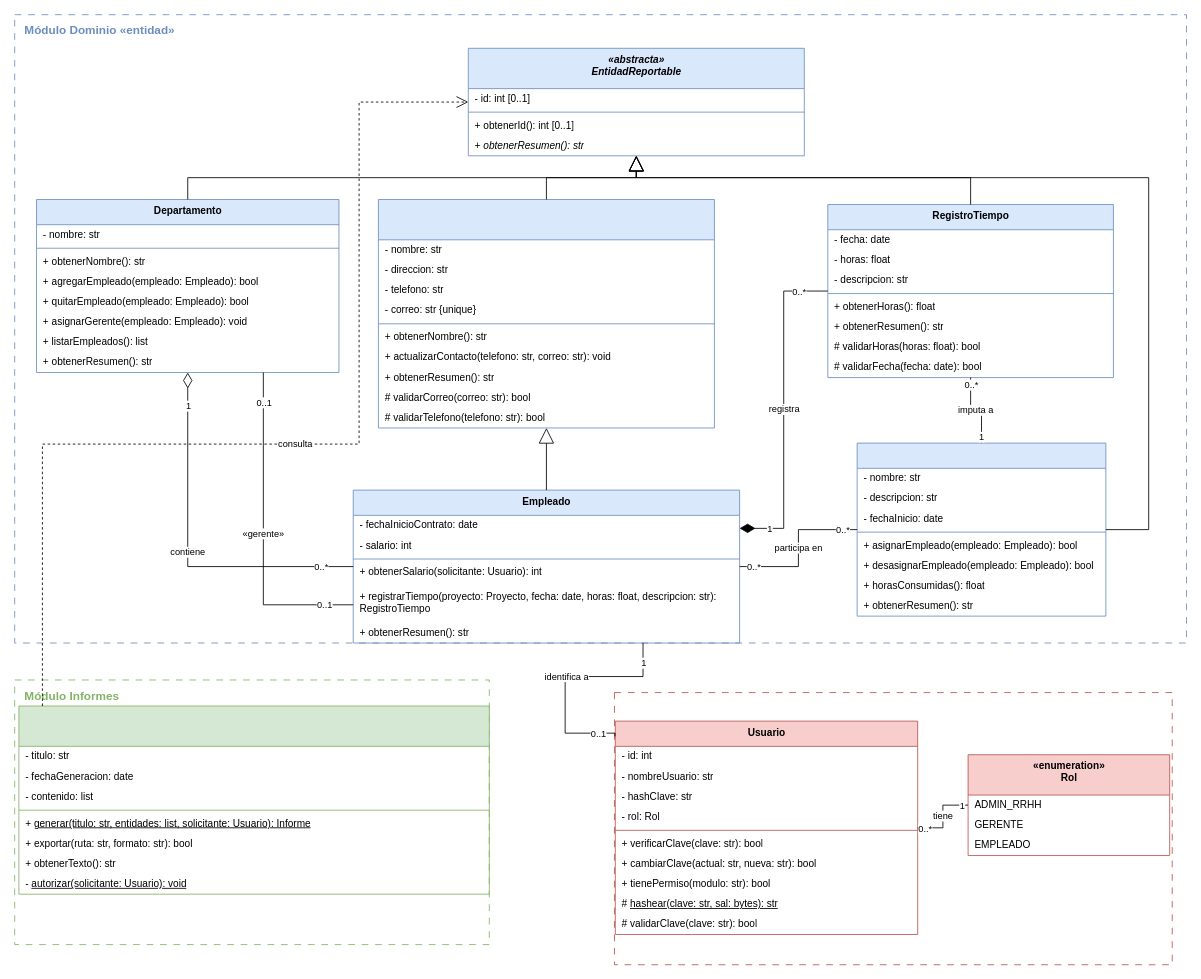
This 1201x979 diagram has some shape labels left out. Here are the shapes that lost their labels. From the top down, the box of each, then its label:
(378, 199, 714, 428): «abstracta» Persona
(856, 442, 1106, 616): Proyecto
(18, 705, 489, 894): «control» Informe
(614, 692, 1172, 965): Módulo Seguridad
